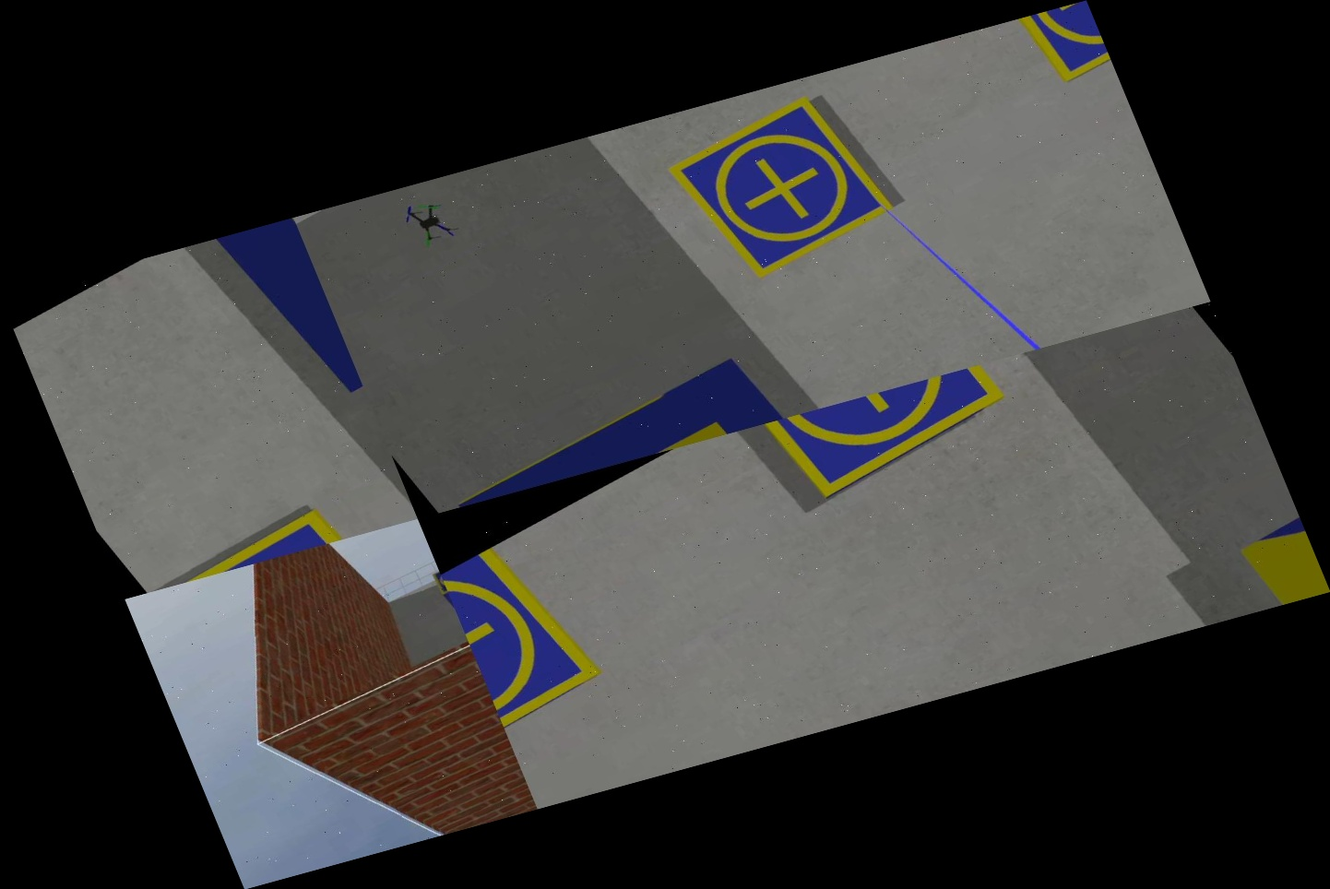large_base: (433, 334, 838, 506)
small_base: (651, 78, 917, 297), (435, 530, 624, 751), (754, 361, 1027, 507), (133, 487, 394, 592), (993, 0, 1116, 98), (422, 561, 449, 599)
